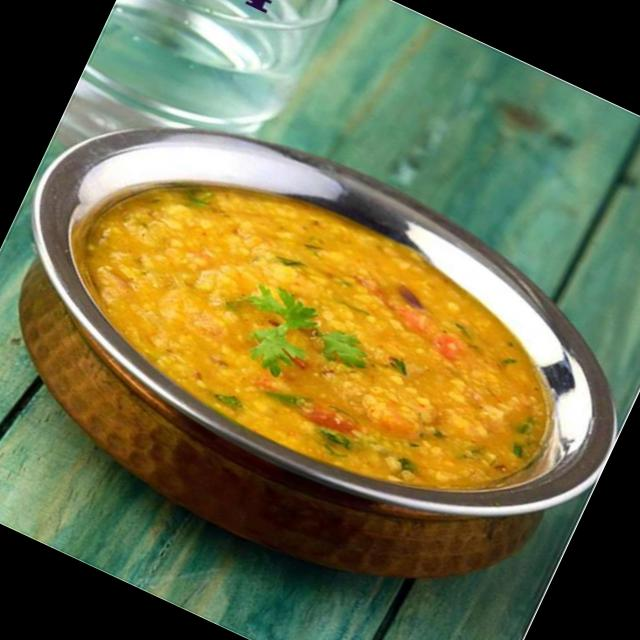dal: (82, 192, 553, 492)
